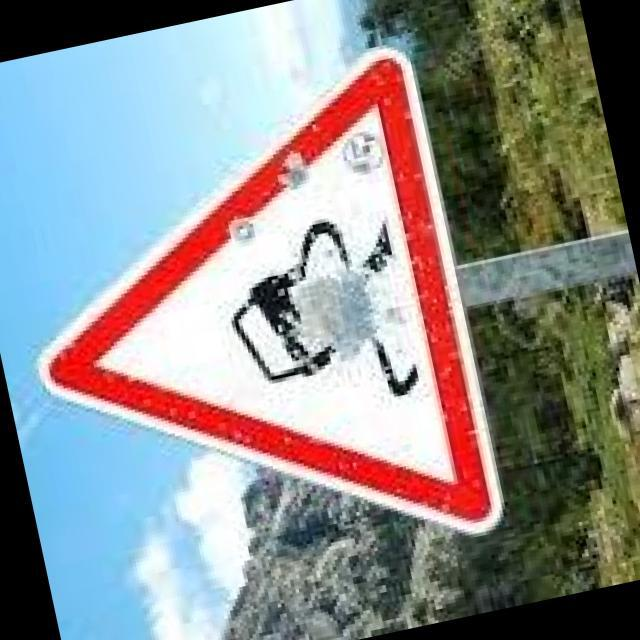obstructed_road_sign: (41, 51, 500, 531)
